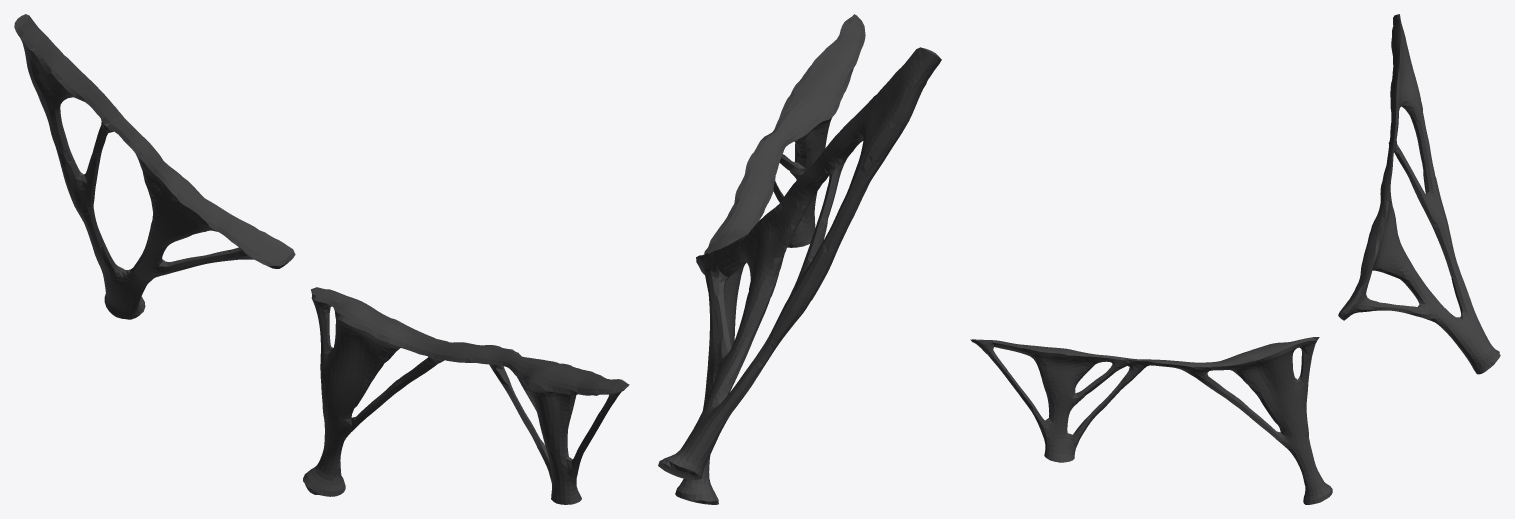
File: canine_cardiac_chordae_tendinae_valve_leaflet.glb
3 renders of one model, left to right at view 1: azimuth 30°, elevation 25°; view 2: azimuth 150°, elevation 25°; view 3: azimuth 270°, elevation 25°, orthographic. The views are drawn at different scales.
Parts seen in each view (by area): view 1: canine_cardiac_chordae_tendinae_valve_leaflet; view 2: canine_cardiac_chordae_tendinae_valve_leaflet; view 3: canine_cardiac_chordae_tendinae_valve_leaflet.
Boxes of the visible parts, box(x1,y1,x2,y2) form: canine_cardiac_chordae_tendinae_valve_leaflet: box(14, 14, 629, 504); canine_cardiac_chordae_tendinae_valve_leaflet: box(658, 14, 941, 504); canine_cardiac_chordae_tendinae_valve_leaflet: box(970, 14, 1500, 504).
Bounding box in the file's own units: 0.0153 × 0.0208 × 0.0255.
1 material, 1 textured.
